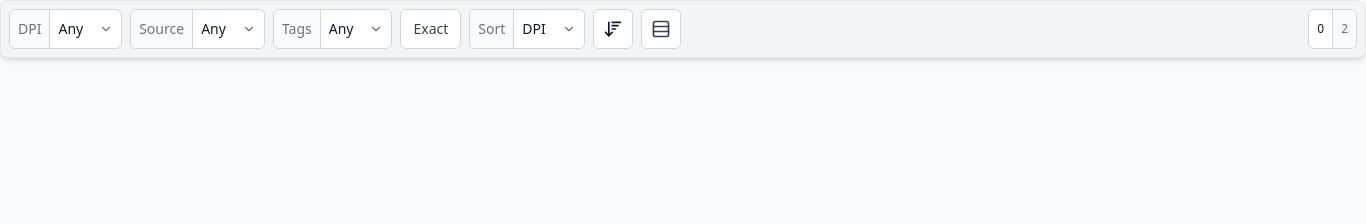
Test: CardArtFilterBar › MPC Mode › shows sources in dropdown
Expected: the text "Source" is shown, [131,10,192,48]
// Open Source dropdown
Click the button "Source Any" at point(198, 29), box [130,9,265,49]
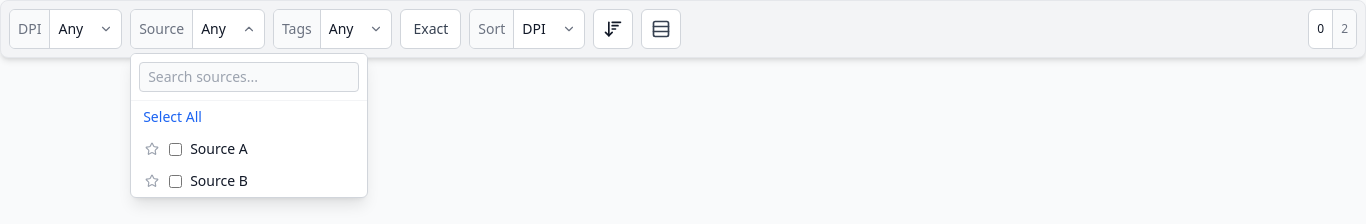
Expected: the text "Source A" is shown, [190,139,248,159]
Expected: the text "Source B" is shown, [190,171,248,191]
